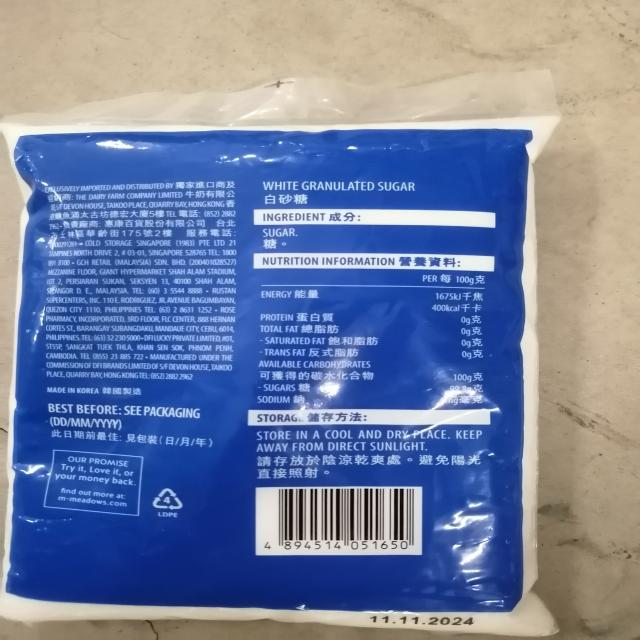object_name: (12, 125, 536, 628)
